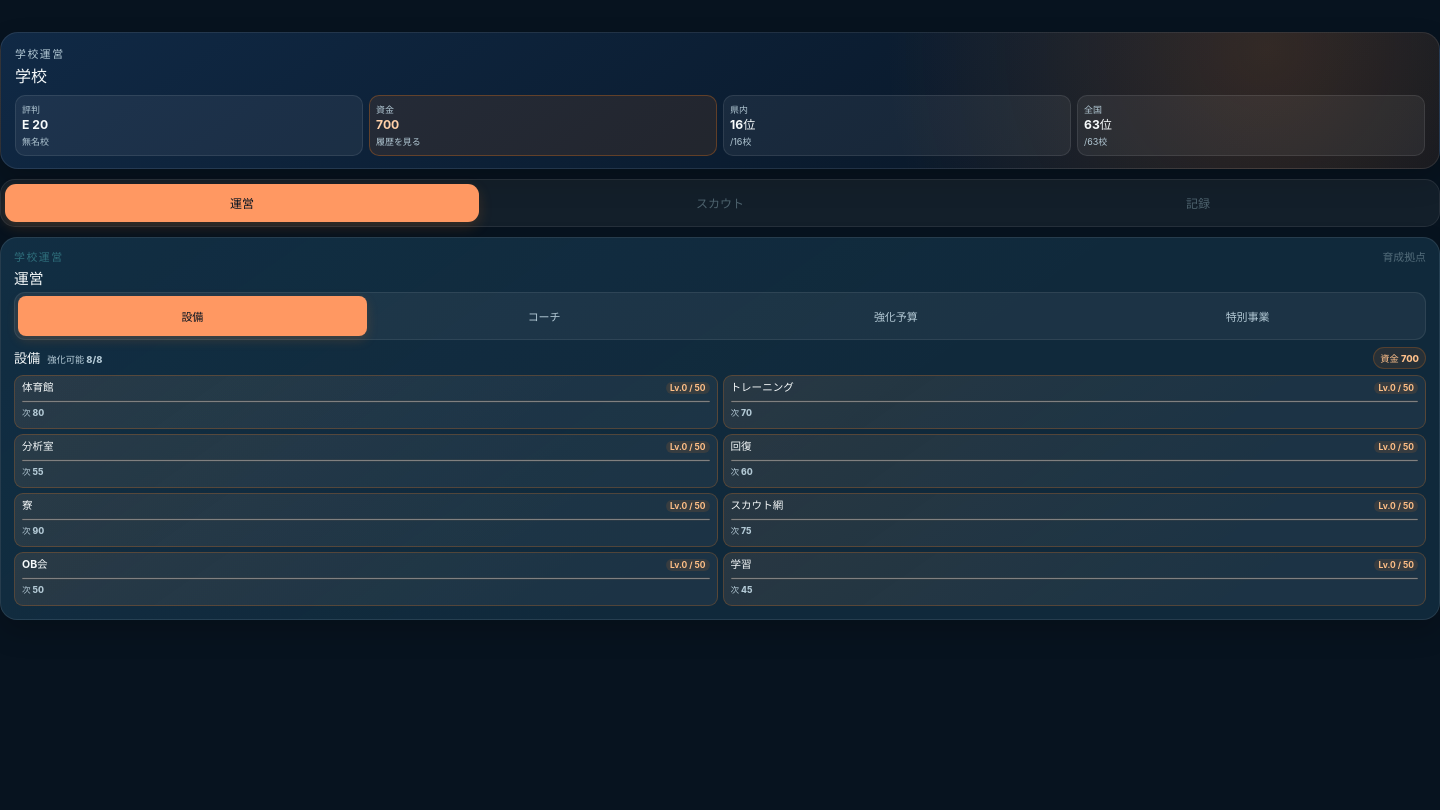
Test: school management screen › opens the funds ledger and renders persisted history newest first
This screenshot has width=1440, height=810.
Click the button "資金 700 履歴を見る" at point(398, 141), box [369,95,717,156]
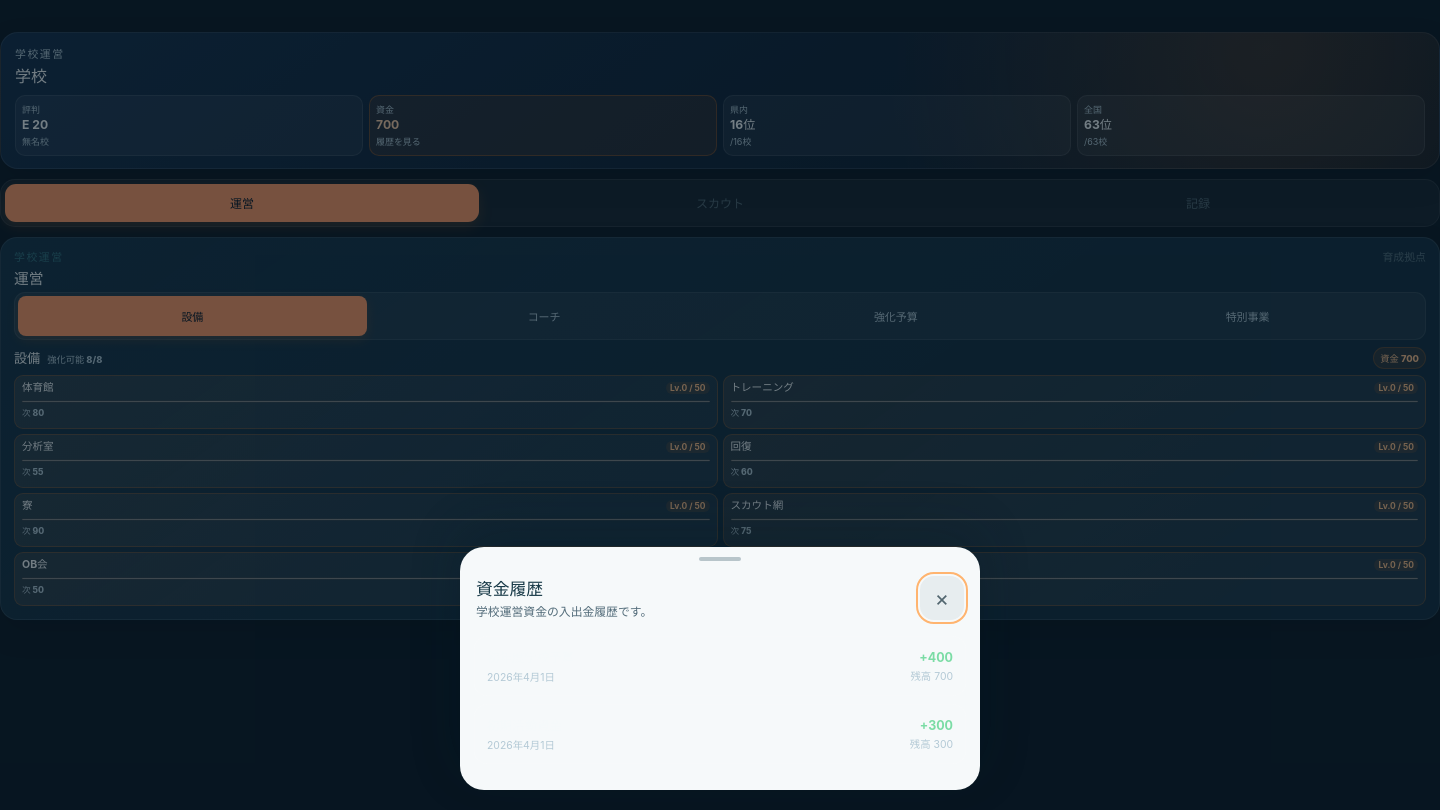
Result: the dialog "資金履歴" is shown at [460,547,980,790]
Result: the text "+400" is shown at [919,650,953,664]
Result: the text "+300" is shown at [920,718,953,732]
